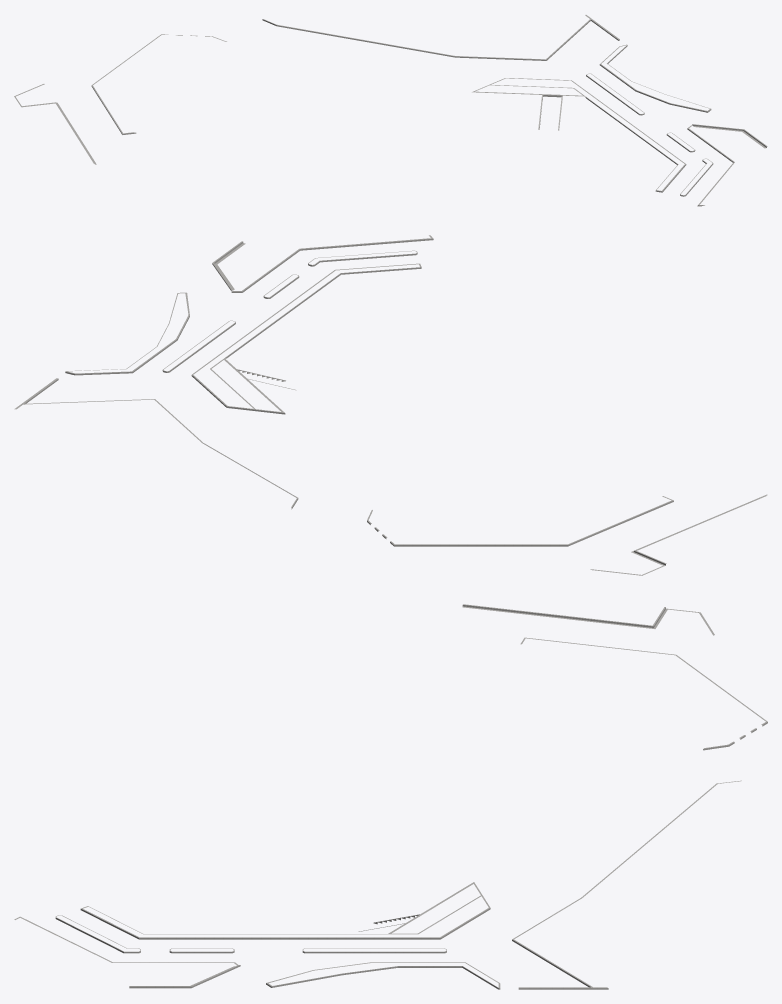
Rendered from kd_stage_13612f_4_7_bounded.glb.
3 views of the same model, one above another, from view 1: azimuth 30°, elevation 25°; view 2: azimuth 150°, elevation 25°; view 3: azimuth 270°, elevation 25° (orthographic). The views are drawn at different scales.
Parts seen in each view (by area): view 1: kd_stage_13612f_4_7_bounded; view 2: kd_stage_13612f_4_7_bounded; view 3: kd_stage_13612f_4_7_bounded.
Boxes of the visible parts, box(x1,y1,x2,y2) form: kd_stage_13612f_4_7_bounded: box(14, 15, 767, 206); kd_stage_13612f_4_7_bounded: box(14, 235, 767, 575); kd_stage_13612f_4_7_bounded: box(14, 604, 767, 989).
Size of the model in its own units: 102 by 7.4 by 92.5.
Materials: 1 (1 with a texture image).
